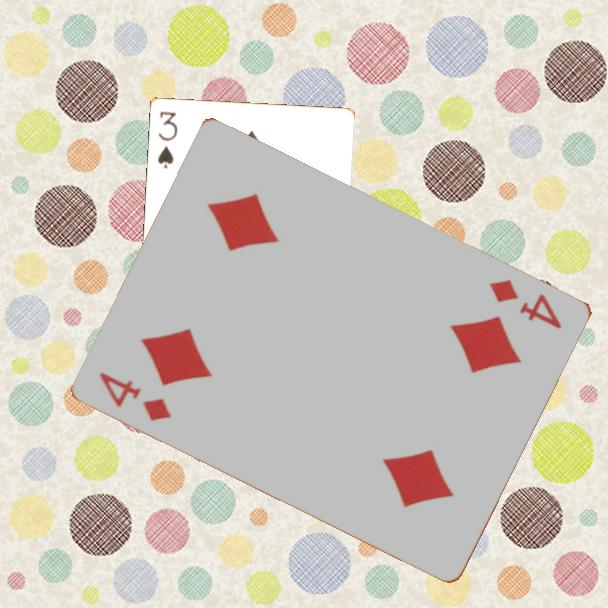d04: (486, 275, 566, 332), (96, 368, 175, 424)
s03: (154, 107, 180, 171)
